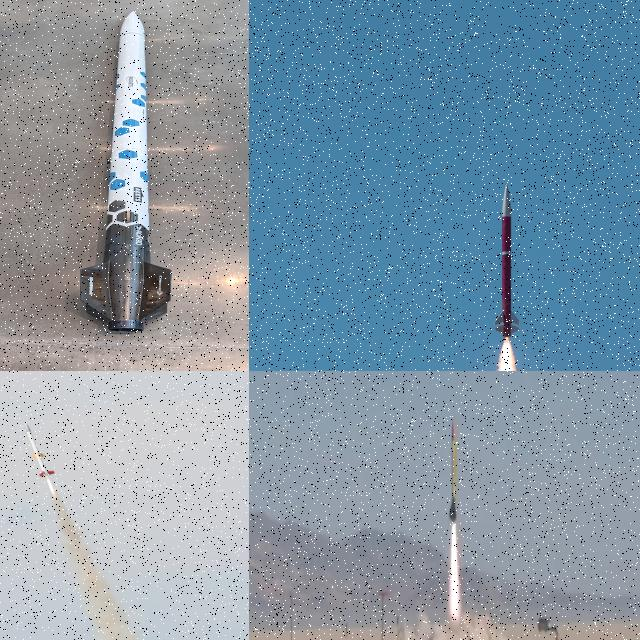Rocket: (80, 11, 172, 333), (494, 183, 522, 340), (24, 422, 56, 478), (449, 418, 458, 528)
